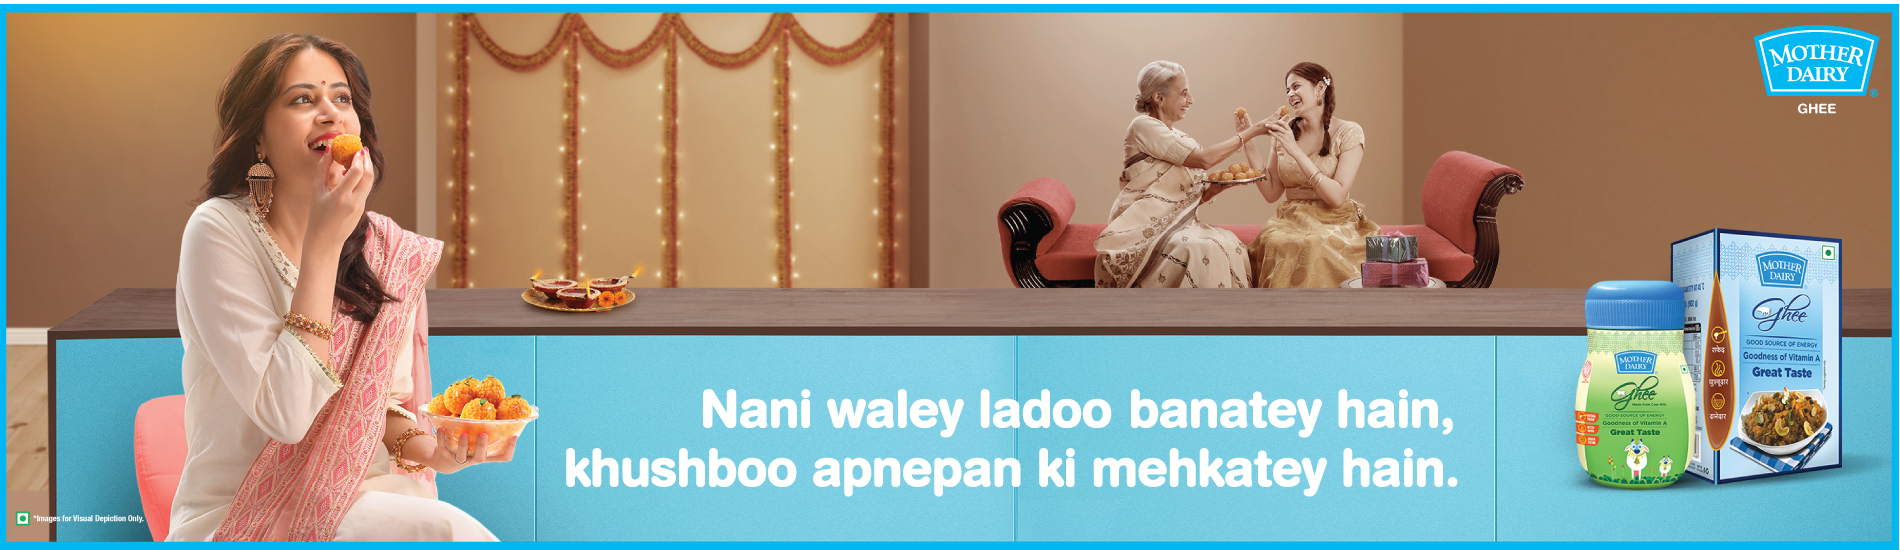Mother_Dairy: (1740, 19, 1892, 121)
